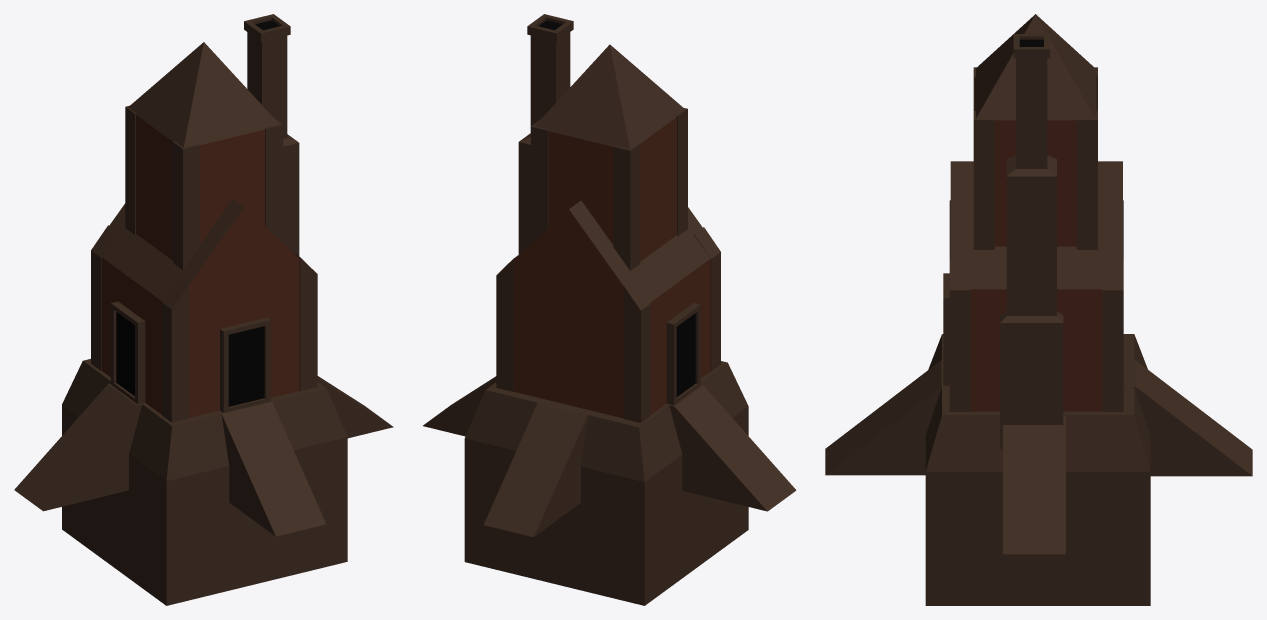
The model's file is Farm.fbx.
3 views of the same model, side by side, from view 1: azimuth 30°, elevation 25°; view 2: azimuth 150°, elevation 25°; view 3: azimuth 270°, elevation 25° (orthographic). The views are drawn at different scales.
Parts seen in each view (by area): view 1: Cube.033, Home Base.004, Home Foundation.006, Stair.001, Stair.004, Tall Chimney, Door.001, Support Pillar.024, Support Pillar.020, Door.004, Support Pillar.027, Support Pillar.021 (+3 smaller); view 2: Cube.033, Home Base.004, Home Foundation.006, Stair.005, Stair.004, Tall Chimney, Support Pillar.025, Support Pillar.022, Door.004, Support Pillar.026, Support Pillar.023, Support Pillar.024 (+2 smaller); view 3: Cube.033, Tall Chimney, Home Base.004, Home Foundation.006, Stair.006, Stair.005, Stair.001, Support Pillar.026, Support Pillar.027, Support Pillar.021, Support Pillar.023, Door.001.
Boxes of the visible parts, x1,y1,x2,y2 form: Cube.033: (62, 359, 347, 605); Home Base.004: (101, 199, 299, 417); Home Foundation.006: (128, 42, 279, 260); Stair.001: (218, 401, 325, 536); Stair.004: (14, 383, 145, 511); Tall Chimney: (244, 14, 299, 255); Door.001: (220, 317, 270, 412); Support Pillar.024: (162, 277, 188, 422); Support Pillar.020: (173, 141, 200, 269); Door.004: (111, 301, 145, 404); Support Pillar.027: (293, 252, 317, 391); Support Pillar.021: (265, 117, 283, 242); Cube.033: (464, 361, 748, 605); Home Base.004: (513, 200, 710, 418); Home Foundation.006: (535, 44, 684, 261); Stair.005: (484, 399, 593, 537); Stair.004: (666, 385, 796, 511); Tall Chimney: (518, 14, 573, 254); Support Pillar.025: (623, 279, 650, 422); Support Pillar.022: (613, 143, 640, 270); Door.004: (666, 303, 700, 405); Support Pillar.026: (496, 254, 519, 391); Support Pillar.023: (531, 120, 548, 243); Support Pillar.024: (694, 227, 720, 371); Cube.033: (925, 334, 1150, 605); Tall Chimney: (1000, 34, 1063, 448); Home Base.004: (950, 161, 1122, 411); Home Foundation.006: (975, 14, 1096, 246); Stair.006: (1003, 411, 1065, 554); Stair.005: (1123, 360, 1252, 476); Stair.001: (825, 359, 949, 475); Support Pillar.026: (1102, 258, 1123, 411); Support Pillar.027: (949, 258, 970, 411); Support Pillar.021: (973, 111, 994, 249); Support Pillar.023: (1076, 111, 1097, 249); Door.001: (943, 273, 949, 385).
Size of the model in its own units: 155 by 217 by 153.
